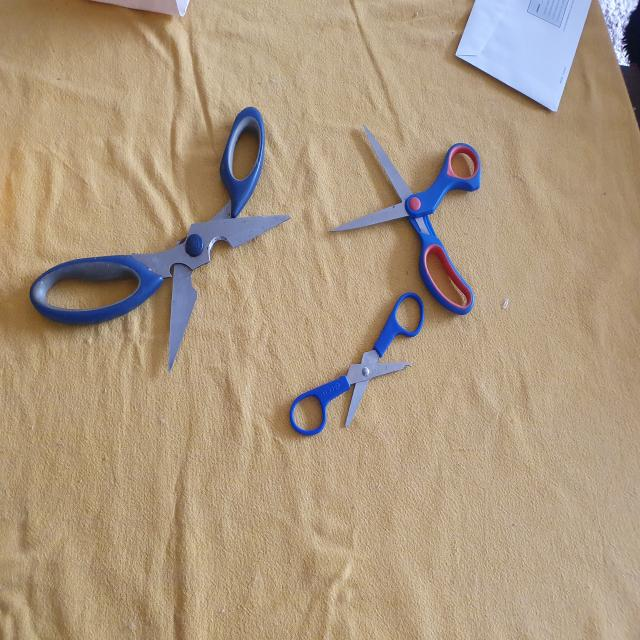scissors: (26, 104, 292, 375), (327, 123, 485, 318), (284, 288, 429, 441)
